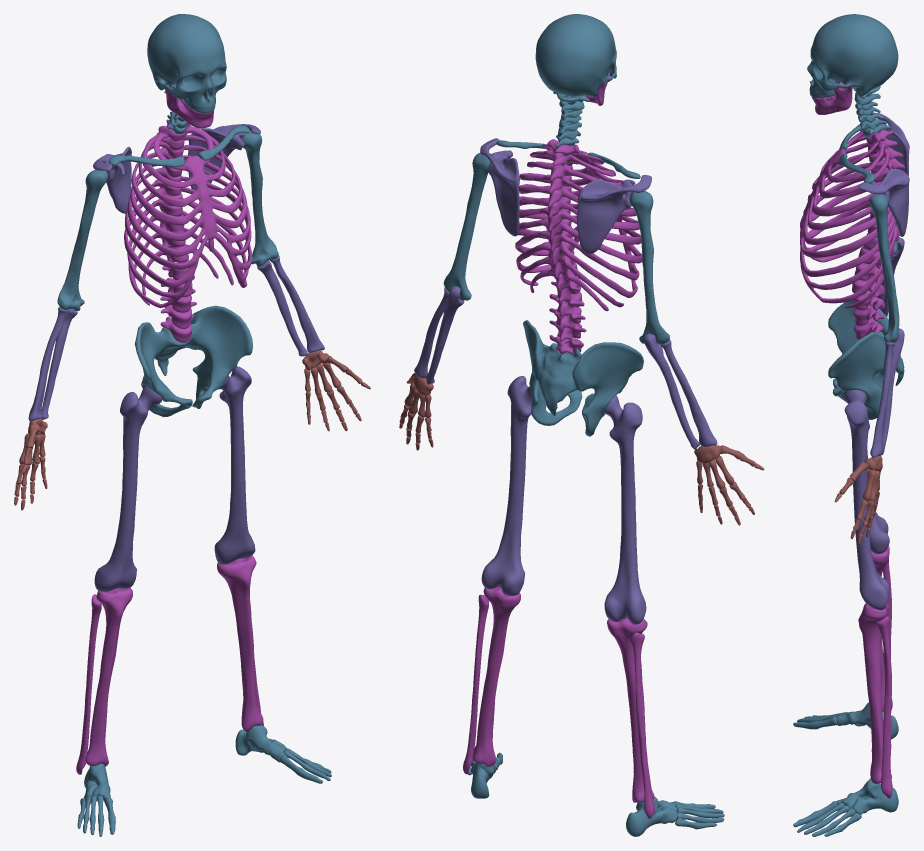
File: skeleton-BmhtHCta.fbx
3 views of the same model, side by side, from view 1: azimuth 30°, elevation 25°; view 2: azimuth 150°, elevation 25°; view 3: azimuth 270°, elevation 25° (orthographic). The views are drawn at different scales.
Parts seen in each view (by area): view 1: Retopo_Default_9, Retopo_Default_2, Retopo_Default_3, Retopo_Default_1, Retopo_Default_11, Retopo_Default_7, Retopo_Default_6, Retopo_Default_4, Retopo_Default_5, Retopo_Default_8, Retopo_Default_10, Retopo_Default_12; view 2: Retopo_Default_9, Retopo_Default_2, Retopo_Default_3, Retopo_Default_1, Retopo_Default_11, Retopo_Default_8, Retopo_Default_6, Retopo_Default_7, Retopo_Default_5, Retopo_Default_4, Retopo_Default_13; view 3: Retopo_Default_9, Retopo_Default_11, Retopo_Default_3, Retopo_Default_1, Retopo_Default_2, Retopo_Default_4, Retopo_Default_8, Retopo_Default_6, Retopo_Default_7, Retopo_Default_5, Retopo_Default_13, Retopo_Default_12 (+1 smaller).
Boxes of the visible parts, bbox=[...] form: Retopo_Default_9: bbox=[124, 119, 252, 342]; Retopo_Default_2: bbox=[94, 366, 255, 591]; Retopo_Default_3: bbox=[76, 555, 263, 774]; Retopo_Default_1: bbox=[135, 305, 252, 417]; Retopo_Default_11: bbox=[147, 14, 226, 113]; Retopo_Default_7: bbox=[57, 132, 278, 311]; Retopo_Default_6: bbox=[28, 255, 324, 421]; Retopo_Default_4: bbox=[77, 724, 331, 836]; Retopo_Default_5: bbox=[14, 350, 370, 510]; Retopo_Default_8: bbox=[93, 124, 260, 213]; Retopo_Default_10: bbox=[108, 125, 249, 167]; Retopo_Default_12: bbox=[164, 84, 214, 128]; Retopo_Default_9: bbox=[515, 139, 642, 354]; Retopo_Default_2: bbox=[481, 376, 646, 624]; Retopo_Default_3: bbox=[463, 587, 654, 818]; Retopo_Default_1: bbox=[523, 320, 643, 436]; Retopo_Default_11: bbox=[535, 14, 616, 96]; Retopo_Default_8: bbox=[480, 138, 651, 254]; Retopo_Default_6: bbox=[414, 286, 717, 449]; Retopo_Default_7: bbox=[443, 153, 669, 344]; Retopo_Default_5: bbox=[399, 373, 764, 525]; Retopo_Default_4: bbox=[468, 752, 724, 836]; Retopo_Default_13: bbox=[553, 91, 589, 147]; Retopo_Default_9: bbox=[800, 124, 904, 339]; Retopo_Default_11: bbox=[807, 14, 898, 98]; Retopo_Default_3: bbox=[858, 545, 892, 798]; Retopo_Default_1: bbox=[828, 300, 904, 419]; Retopo_Default_2: bbox=[844, 390, 889, 610]; Retopo_Default_4: bbox=[793, 702, 898, 836]; Retopo_Default_8: bbox=[858, 113, 909, 236]; Retopo_Default_6: bbox=[870, 237, 904, 457]; Retopo_Default_7: bbox=[869, 119, 899, 342]; Retopo_Default_5: bbox=[834, 334, 882, 543]; Retopo_Default_13: bbox=[854, 86, 891, 136]; Retopo_Default_12: bbox=[811, 82, 852, 114].
Bounding box in the file's own units: 19.4 × 40.86 × 5.67.
